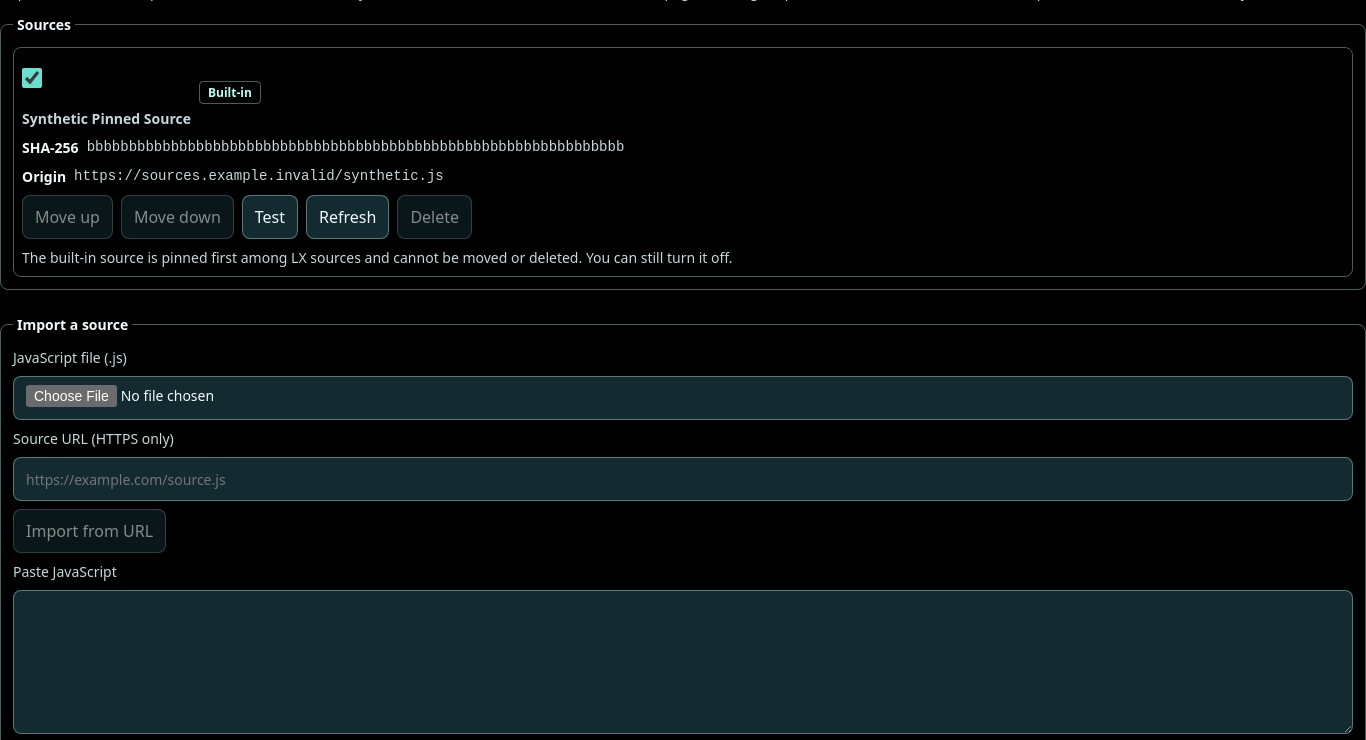
Test: LxSourceManager › imports › imports from an HTTPS URL and refuses a plain-HTTP one
In the field labelled "Source URL (HTTPS only)": coordinates (683, 479) [13,457,1353,501], type "https://example.invalid/alpha.js"
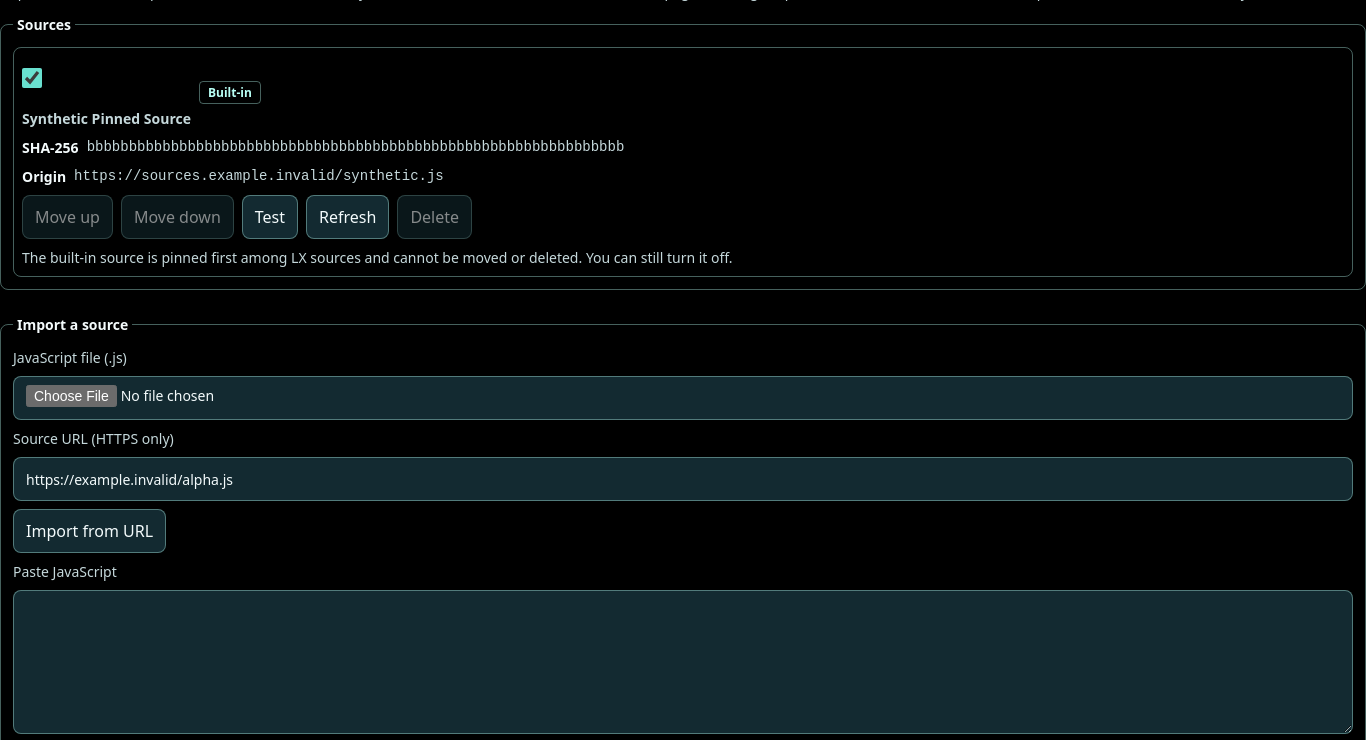
Click the button "Import from URL": coordinates (90, 531) [13,509,166,553]
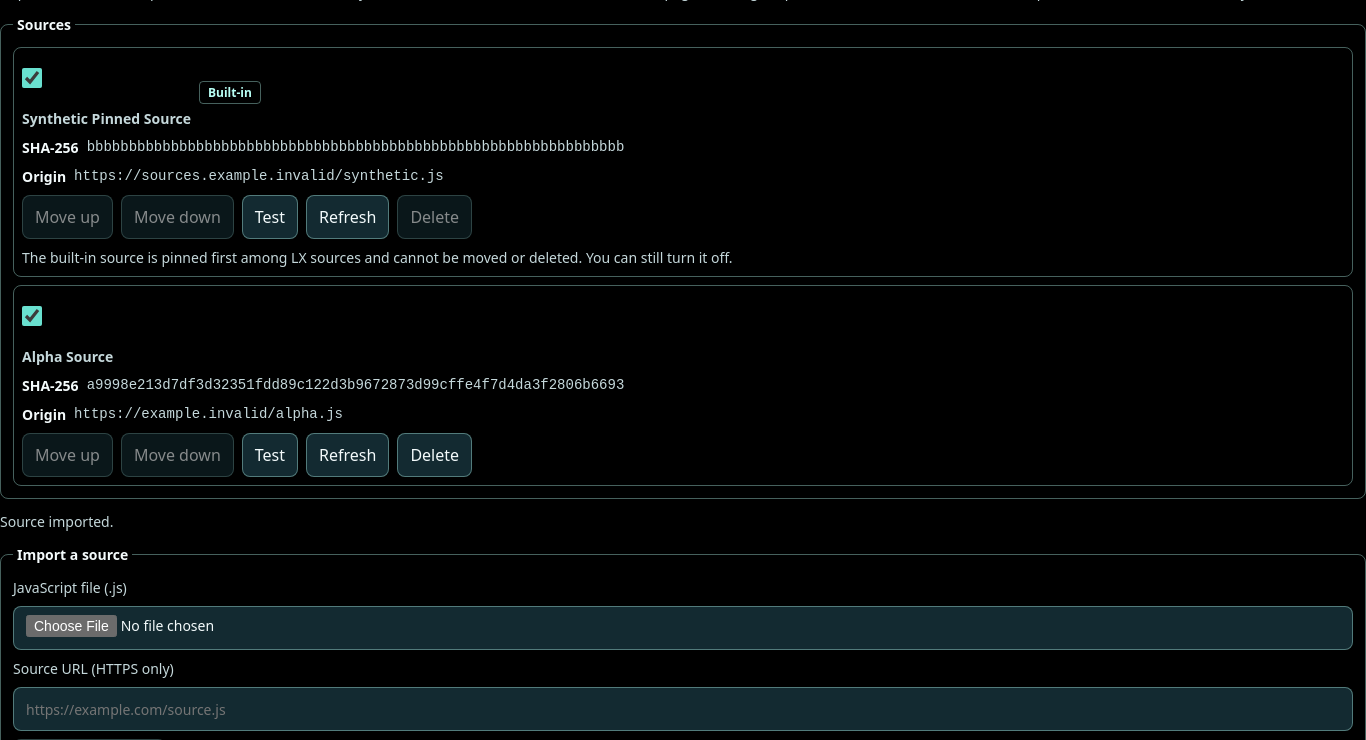
Check: the text "https://example.invalid/alpha.js" is shown, box [74,404,343,425]
In the field labelled "Source URL (HTTPS only)": coordinates (683, 709) [13,687,1353,731], type "http://example.invalid/beta.js"
(page scrolled)
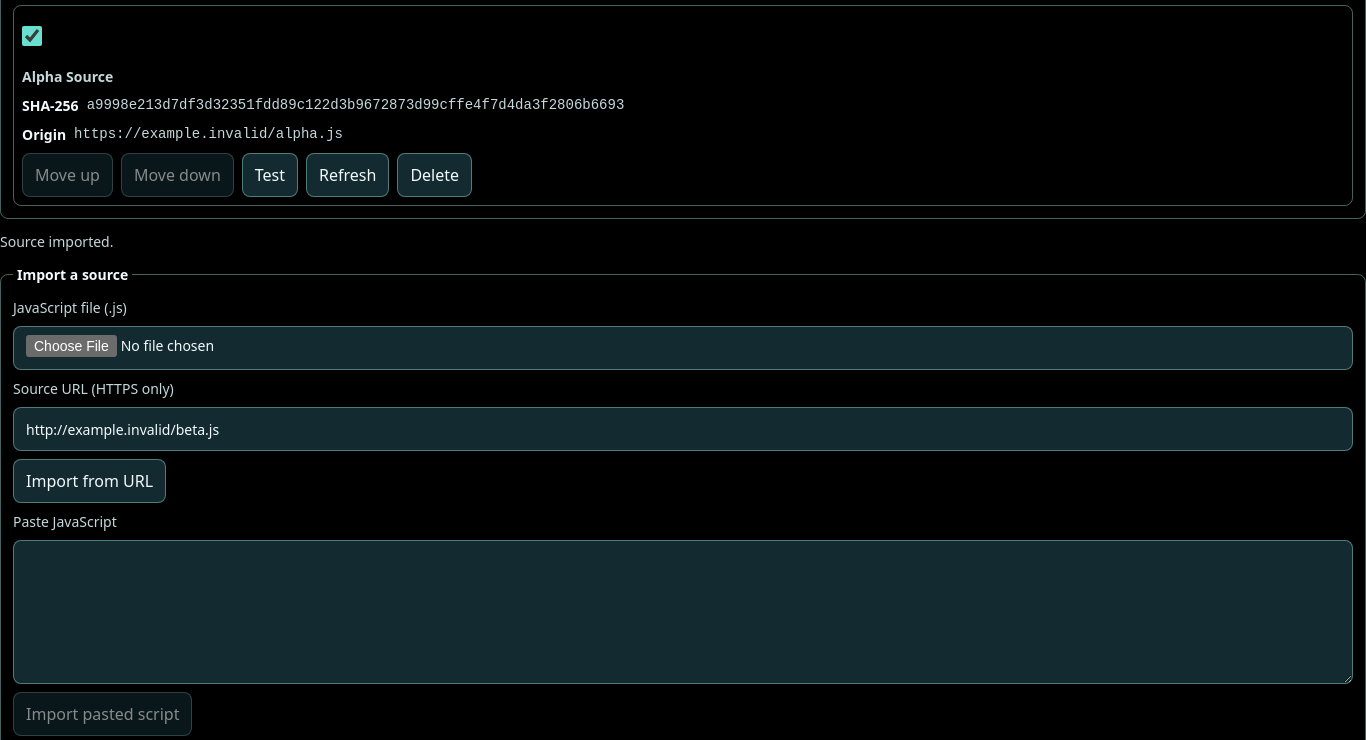
Click the button "Import from URL": coordinates (90, 481) [13,459,166,503]
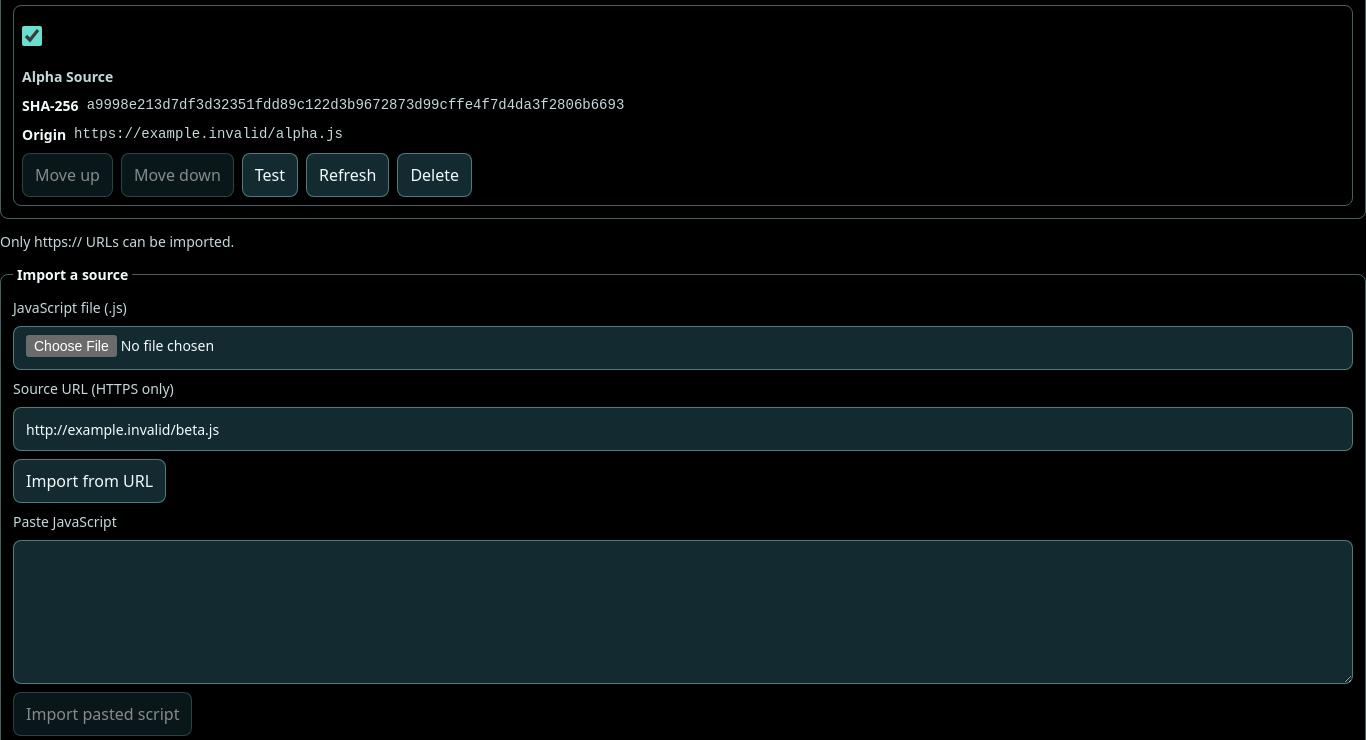
Check: the message "Only https:// URLs can be imported." is shown, box [0,232,234,251]
